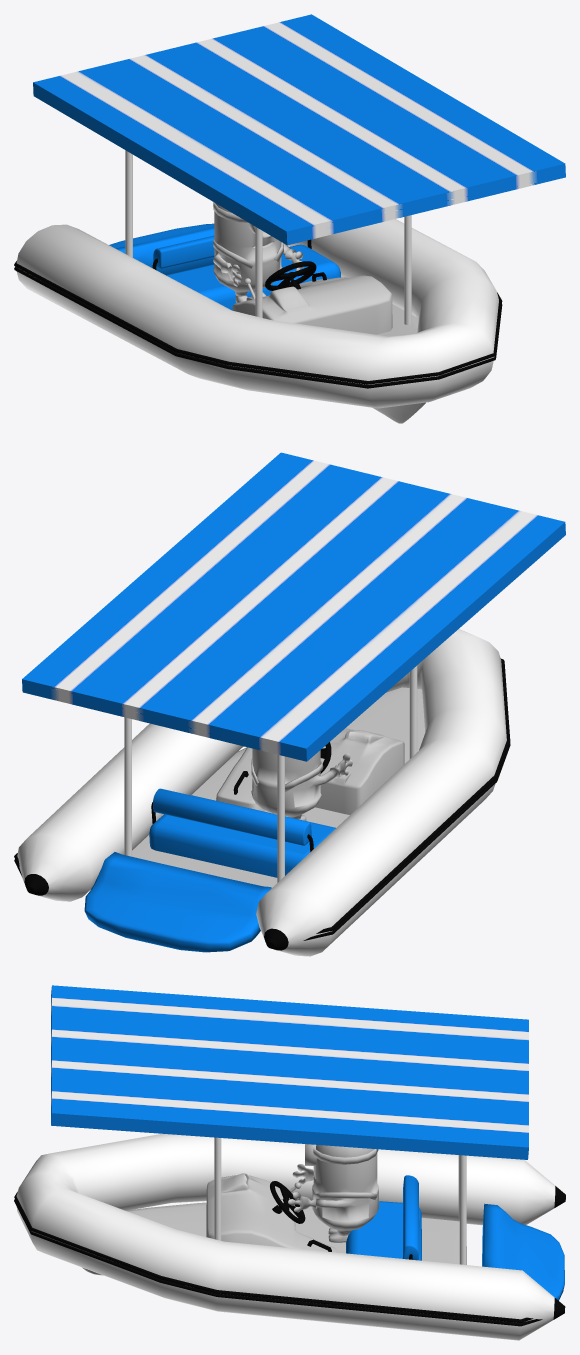
Rendered from minion.obj.
3 views of the same model, one above another, from view 1: azimuth 30°, elevation 25°; view 2: azimuth 150°, elevation 25°; view 3: azimuth 270°, elevation 25° (orthographic). The views are drawn at different scales.
Visible parts, largest first — view 1: Techo, boat uploads_files_2127379_Format4:Loft02 Flotador, Volante boat uploads_files_2127379_Format4:Box06, boat Flotador uploads_files_2127379_Format4:Layer_51, minion:Mesh polySurface18, boat Asiento uploads_files_2127379_Format4:ChamferBox01, boat Flotador uploads_files_2127379_Format4:Box01, boat Asiento uploads_files_2127379_Format4:NGon01, boat Flotador uploads_files_2127379_Format4:Box04, uploads_files_2127379_Format4:Circle004 Volante boat, tubo Tubos, Tubos tubo2 (+1 smaller); view 2: Techo, boat uploads_files_2127379_Format4:Loft02 Flotador, boat Flotador uploads_files_2127379_Format4:Box01, Volante boat uploads_files_2127379_Format4:Box06, boat Flotador uploads_files_2127379_Format4:Box04, boat Asiento uploads_files_2127379_Format4:ChamferBox01, boat Asiento uploads_files_2127379_Format4:NGon01, minion:Mesh polySurface18, boat Flotador uploads_files_2127379_Format4:Layer_51, Tubos tubo3, Tubos tubo2, boat Flotador uploads_files_2127379_Format4:Object001 (+1 smaller); view 3: Techo, boat uploads_files_2127379_Format4:Loft02 Flotador, Volante boat uploads_files_2127379_Format4:Box06, minion:Mesh polySurface18, boat Flotador uploads_files_2127379_Format4:Box01, boat Flotador uploads_files_2127379_Format4:Box04, boat Flotador uploads_files_2127379_Format4:Layer_51, boat Asiento uploads_files_2127379_Format4:ChamferBox01, boat Asiento uploads_files_2127379_Format4:NGon01, Tubos tubo3, tubo Tubos, uploads_files_2127379_Format4:Circle004 Volante boat (+1 smaller).
Boxes of the visible parts, x1=… form: Techo: x1=33, y1=14, x2=565, y2=245; boat uploads_files_2127379_Format4:Loft02 Flotador: x1=16, y1=219, x2=498, y2=408; Volante boat uploads_files_2127379_Format4:Box06: x1=232, y1=275, x2=392, y2=334; boat Flotador uploads_files_2127379_Format4:Layer_51: x1=14, y1=261, x2=502, y2=388; minion:Mesh polySurface18: x1=213, y1=203, x2=303, y2=302; boat Asiento uploads_files_2127379_Format4:ChamferBox01: x1=166, y1=244, x2=340, y2=310; boat Flotador uploads_files_2127379_Format4:Box01: x1=109, y1=223, x2=214, y2=274; boat Asiento uploads_files_2127379_Format4:NGon01: x1=153, y1=235, x2=214, y2=268; boat Flotador uploads_files_2127379_Format4:Box04: x1=341, y1=277, x2=425, y2=423; uploads_files_2127379_Format4:Circle004 Volante boat: x1=265, y1=261, x2=316, y2=290; tubo Tubos: x1=404, y1=215, x2=411, y2=324; Tubos tubo2: x1=125, y1=150, x2=132, y2=257; Techo: x1=22, y1=452, x2=565, y2=761; boat uploads_files_2127379_Format4:Loft02 Flotador: x1=17, y1=629, x2=506, y2=956; boat Flotador uploads_files_2127379_Format4:Box01: x1=84, y1=852, x2=271, y2=952; Volante boat uploads_files_2127379_Format4:Box06: x1=216, y1=728, x2=404, y2=814; boat Flotador uploads_files_2127379_Format4:Box04: x1=132, y1=687, x2=425, y2=887; boat Asiento uploads_files_2127379_Format4:ChamferBox01: x1=149, y1=795, x2=335, y2=877; boat Asiento uploads_files_2127379_Format4:NGon01: x1=153, y1=788, x2=311, y2=845; minion:Mesh polySurface18: x1=251, y1=748, x2=352, y2=820; boat Flotador uploads_files_2127379_Format4:Layer_51: x1=14, y1=658, x2=510, y2=940; Tubos tubo3: x1=124, y1=717, x2=131, y2=856; Tubos tubo2: x1=277, y1=754, x2=284, y2=882; boat Flotador uploads_files_2127379_Format4:Object001: x1=24, y1=874, x2=288, y2=950; Techo: x1=51, y1=985, x2=528, y2=1159; boat uploads_files_2127379_Format4:Loft02 Flotador: x1=16, y1=1133, x2=555, y2=1340; Volante boat uploads_files_2127379_Format4:Box06: x1=206, y1=1173, x2=337, y2=1252; minion:Mesh polySurface18: x1=288, y1=1145, x2=378, y2=1242; boat Flotador uploads_files_2127379_Format4:Box01: x1=482, y1=1203, x2=564, y2=1300; boat Flotador uploads_files_2127379_Format4:Box04: x1=82, y1=1202, x2=466, y2=1275; boat Flotador uploads_files_2127379_Format4:Layer_51: x1=14, y1=1192, x2=542, y2=1326; boat Asiento uploads_files_2127379_Format4:ChamferBox01: x1=346, y1=1201, x2=421, y2=1260; boat Asiento uploads_files_2127379_Format4:NGon01: x1=403, y1=1175, x2=419, y2=1260; Tubos tubo3: x1=459, y1=1155, x2=466, y2=1264; tubo Tubos: x1=214, y1=1137, x2=221, y2=1240; uploads_files_2127379_Format4:Circle004 Volante boat: x1=270, y1=1181, x2=305, y2=1223.
Bounding box in the file's own units: 30.74 × 23.46 × 49.7.
